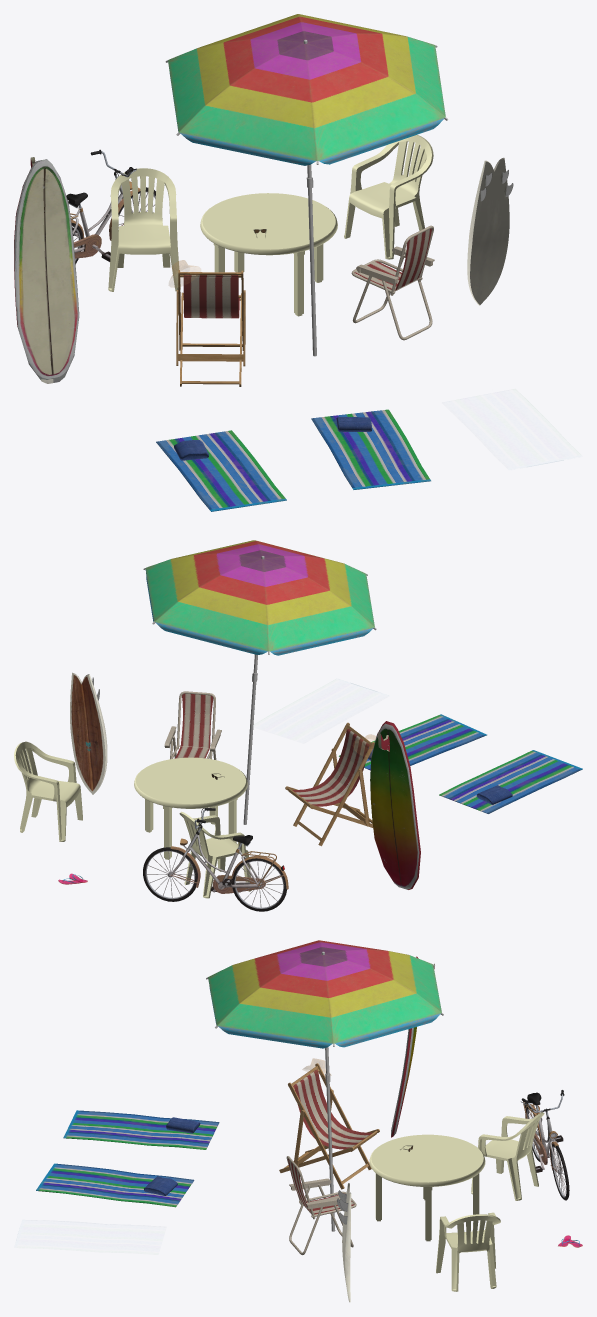
File: uploads_files_5954063_beach+scene.glb
3 renders of one model, top to bottom at view 1: azimuth 30°, elevation 25°; view 2: azimuth 150°, elevation 25°; view 3: azimuth 270°, elevation 25°, orthographic. The views are drawn at different scales.
Visible parts, largest first — view 1: sunshade, Cube, beach table, beack towel.002, beack towel, stackable chair.001, stackable chair, beach chair, surfboard, beach chair 2, bike; view 2: sunshade, Cube, beach table, bike, beach chair, beack towel, surfboard, stackable chair, beach chair 2, beack towel.002, stackable chair.001; view 3: sunshade, beach table, beach chair, beack towel, beack towel.002, stackable chair, stackable chair.001, bike, beach chair 2, surfboard, Cube.
Boxes of the visible parts, box(x1,y1,x2,y2) form: sunshade: box(165, 14, 448, 356); Cube: box(14, 157, 79, 383); beach table: box(200, 193, 337, 316); beack towel.002: box(311, 409, 430, 489); beack towel: box(156, 430, 286, 511); stackable chair.001: box(108, 168, 180, 291); stackable chair: box(344, 135, 433, 259); beach chair: box(176, 270, 245, 386); surfboard: box(467, 157, 513, 305); beach chair 2: box(351, 225, 434, 340); bike: box(66, 149, 155, 263); sunshade: box(143, 540, 376, 824); Cube: box(370, 721, 420, 889); beach table: box(134, 757, 247, 859); bike: box(143, 807, 288, 911); beach chair: box(285, 722, 374, 846); beack towel: box(439, 750, 582, 813); surfboard: box(70, 672, 107, 794); stackable chair: box(14, 741, 82, 841); beach chair 2: box(164, 691, 221, 759); beack towel.002: box(339, 714, 486, 770); stackable chair.001: box(179, 811, 251, 898); sunshade: box(206, 940, 443, 1231); beach table: box(369, 1134, 485, 1241); beach chair: box(279, 1063, 379, 1189); beack towel: box(63, 1110, 219, 1149); beack towel.002: box(36, 1163, 194, 1207); stackable chair: box(436, 1212, 500, 1291); stackable chair.001: box(471, 1112, 544, 1200); bike: box(520, 1090, 569, 1200); beach chair 2: box(286, 1156, 356, 1255); surfboard: box(337, 1183, 351, 1302); Cube: box(391, 956, 434, 1137).
Size of what is drawn, in the model's own units: 4.96 by 3.35 by 6.33.
7 materials, 6 textured.
